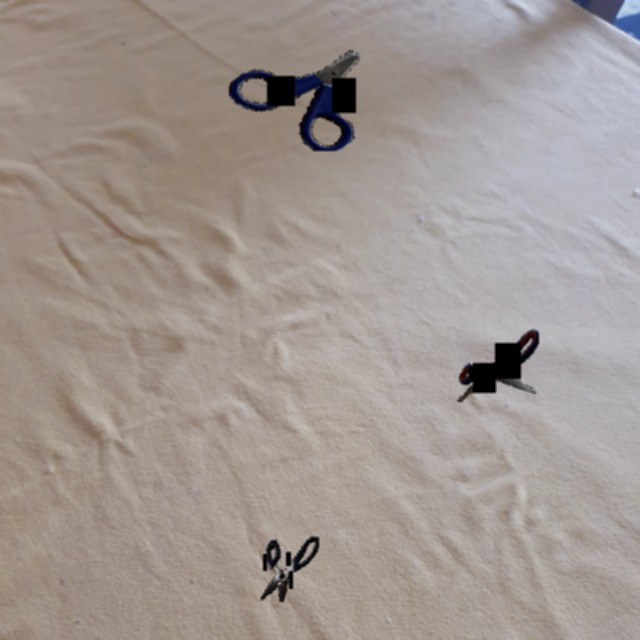scissors: (229, 50, 360, 151), (457, 329, 539, 402), (261, 536, 319, 602)
